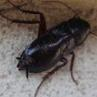cockroach: (17, 15, 91, 76)
